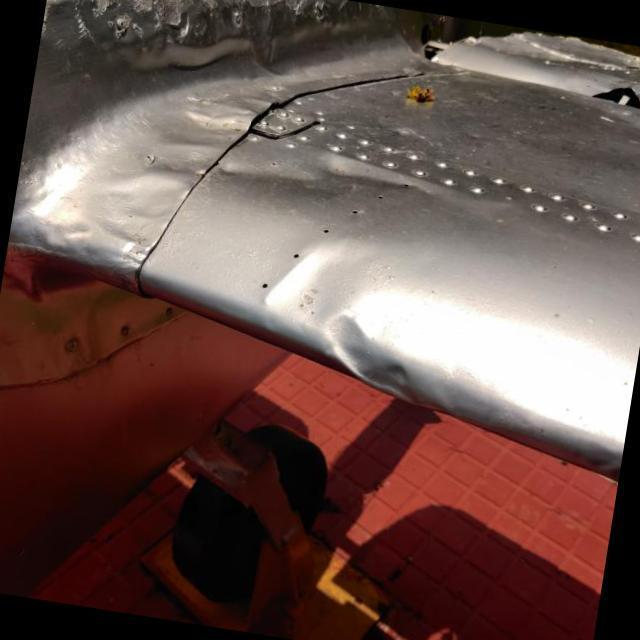Dent: (305, 286, 482, 434), (252, 133, 433, 230)
